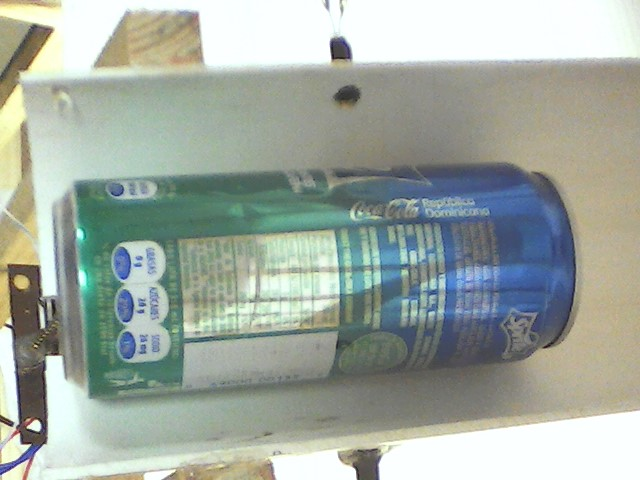lata: (43, 156, 597, 405)
